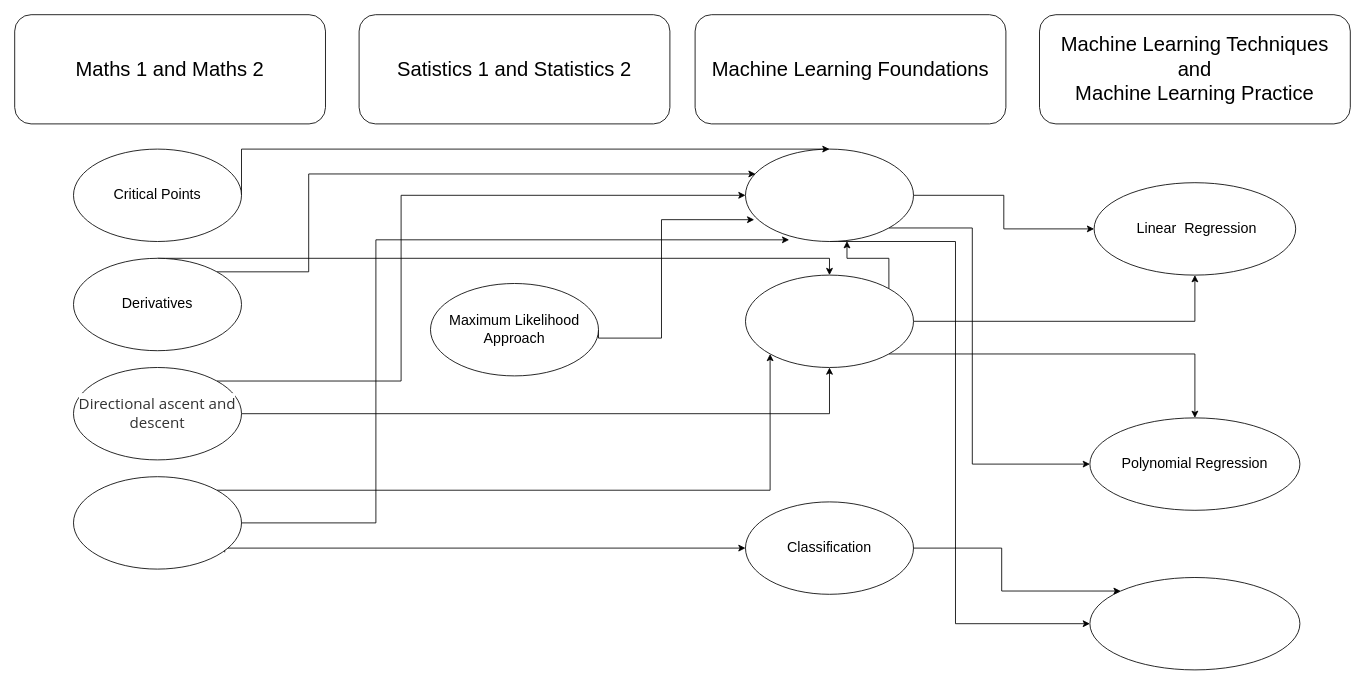
Some shapes in this 1365 by 685 pixel diagram are drawn without their labels. Each missing label, with the box of its shape:
Logistic Regression: (1089, 577, 1300, 670)
Regression: (745, 148, 914, 242)
Unconstrained Optimisation: Gradient Descent Algorithm: (745, 274, 914, 368)
Vectors and Matrices: (73, 476, 242, 569)
